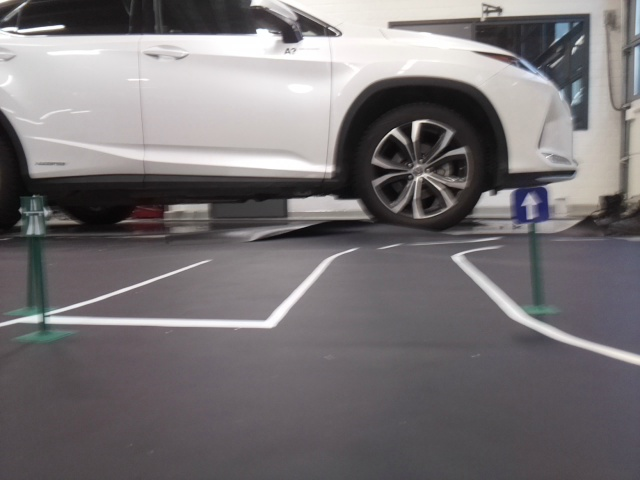OneWay: (514, 184, 548, 222)
